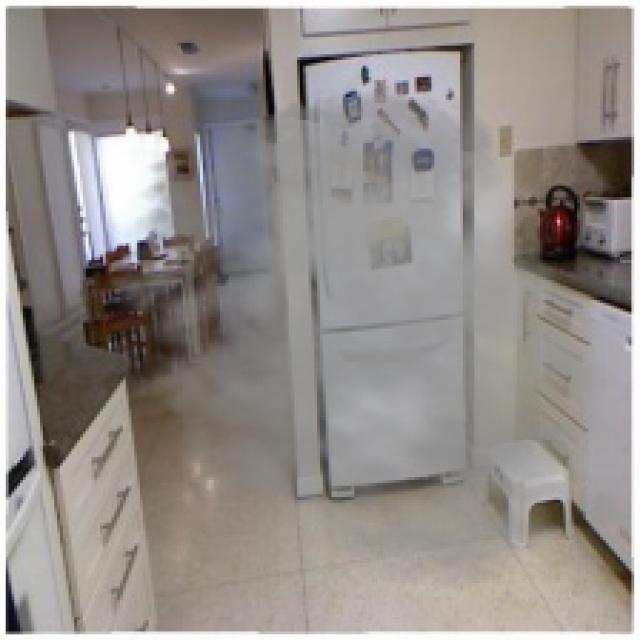smoke: (86, 77, 637, 594)
